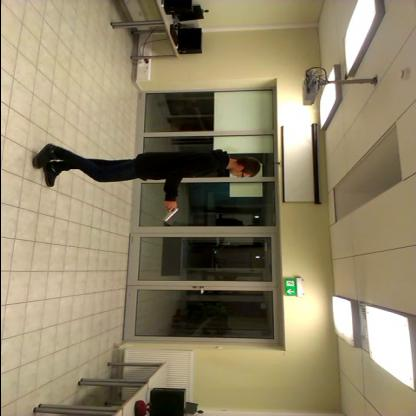Pistol: (155, 200, 185, 226)
